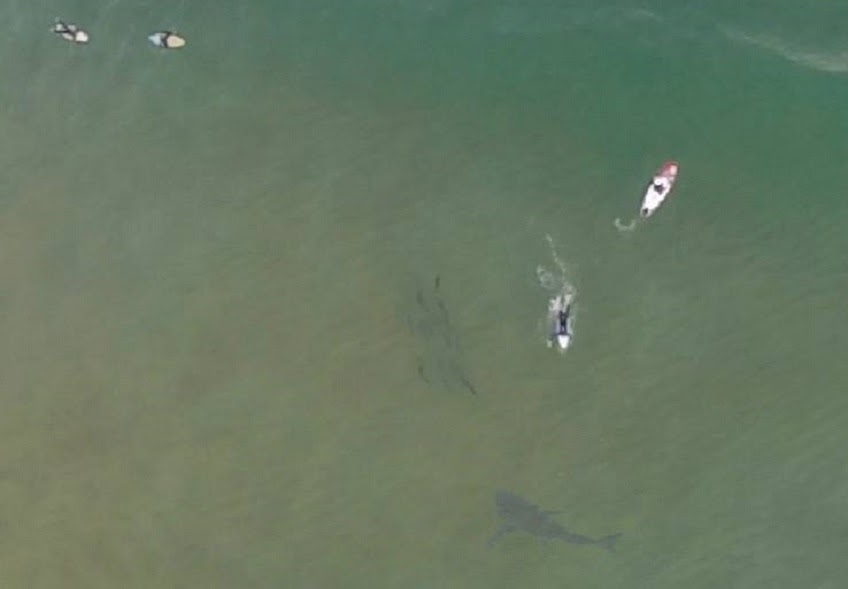shark: (471, 478, 630, 568)
surfer: (539, 285, 584, 366), (637, 157, 681, 224), (47, 16, 93, 49), (143, 27, 190, 55)
